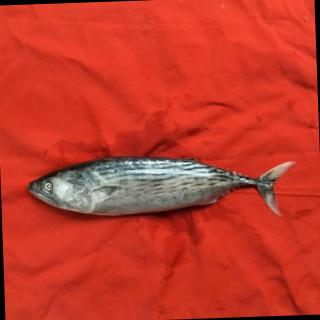Ikan: (23, 149, 301, 232)
